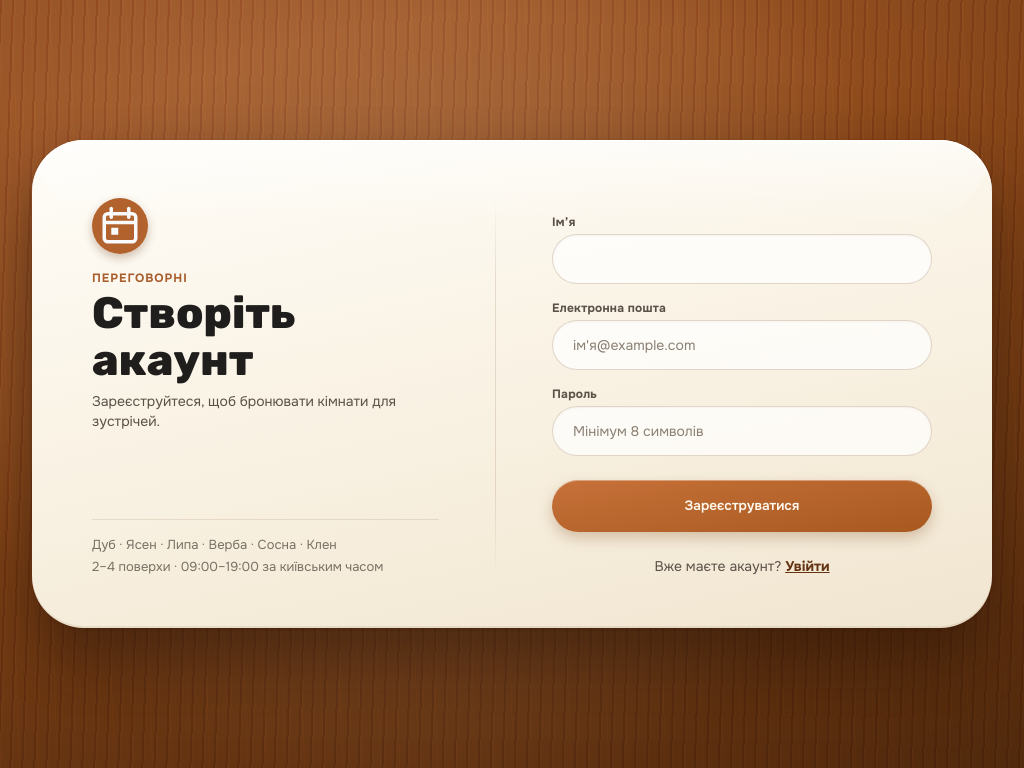
client-side validation › rejects a 7-character password without sending a request
Expected: the heading "Створіть акаунт" is shown, [92,287,296,386]
Type "Іван" into the field labelled "Імʼя" at {"x": 742, "y": 259}, box [552,234,932,284]
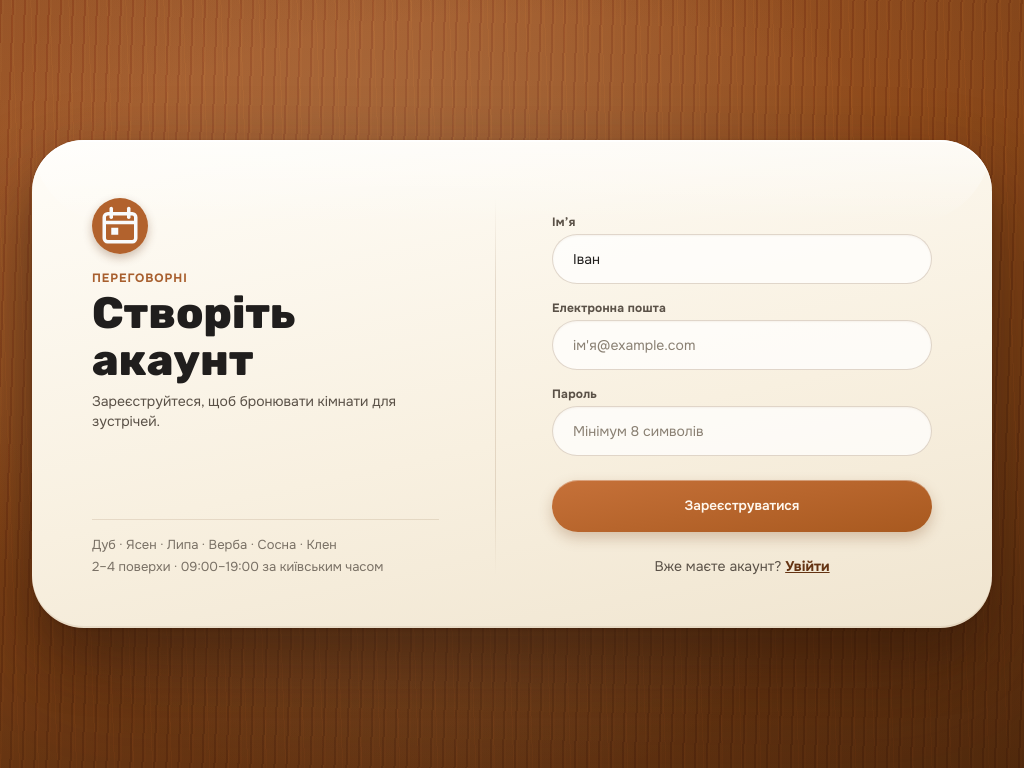
Type "ivan@example.com" into the field labelled "Електронна пошта" at {"x": 742, "y": 345}, box [552,320,932,370]
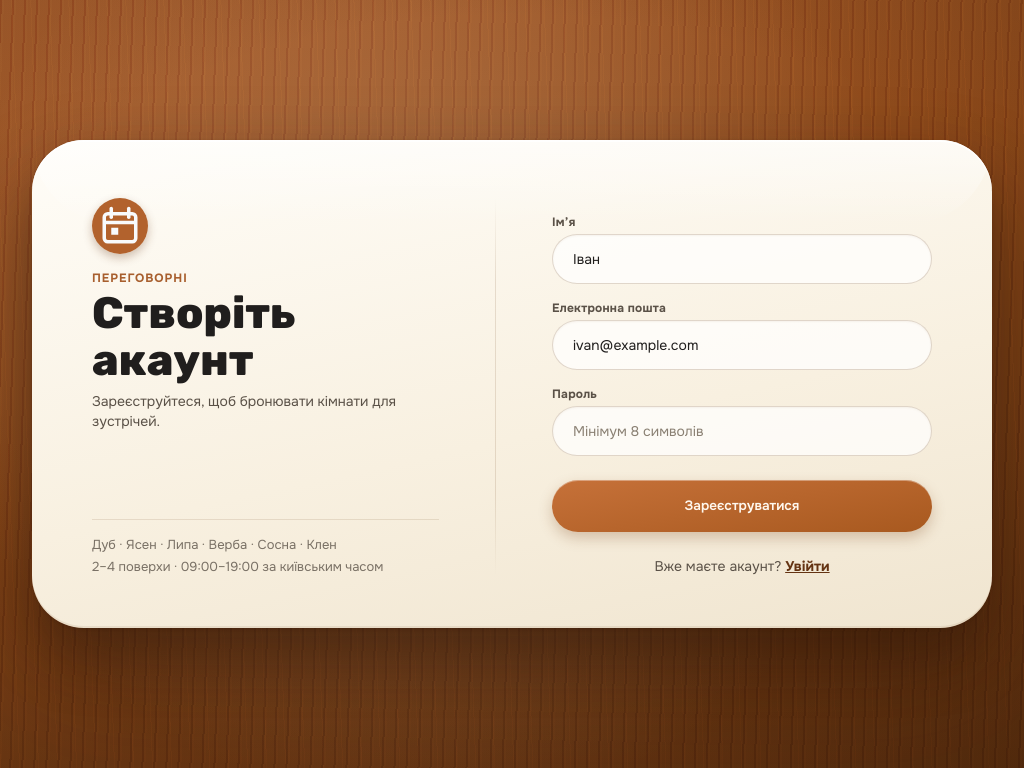
Type "1234567" into the password field labelled "Пароль" at {"x": 742, "y": 431}, box [552,406,932,456]
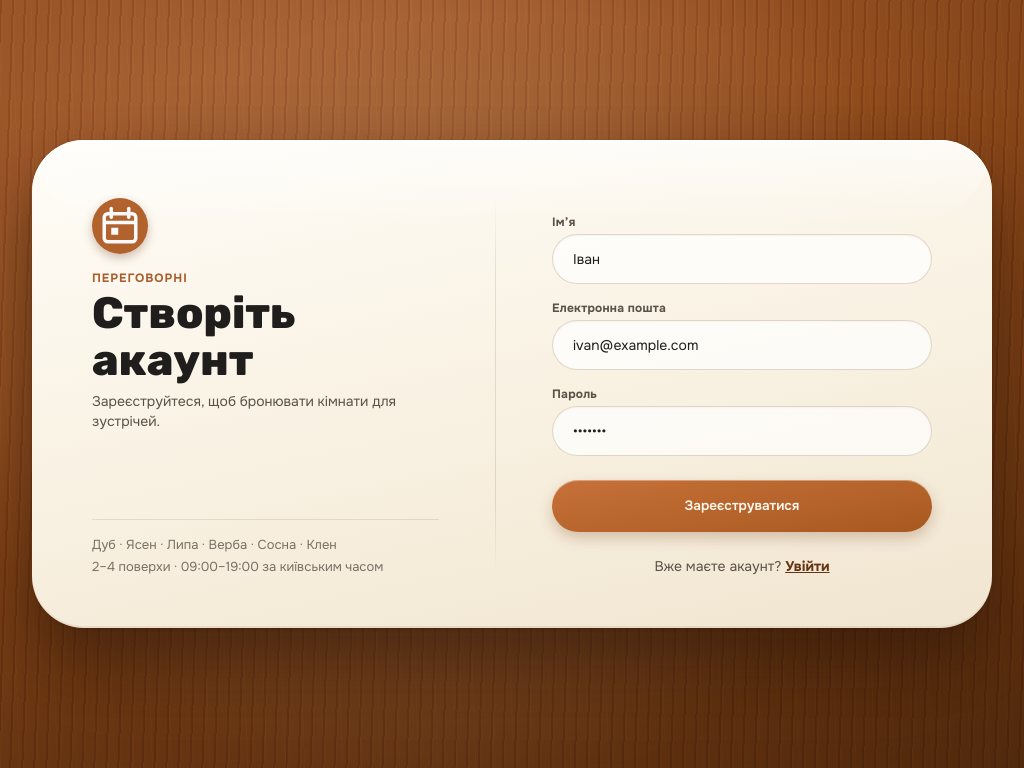
Click the button "Зареєструватися" at {"x": 742, "y": 506}, box [552,480,932,532]
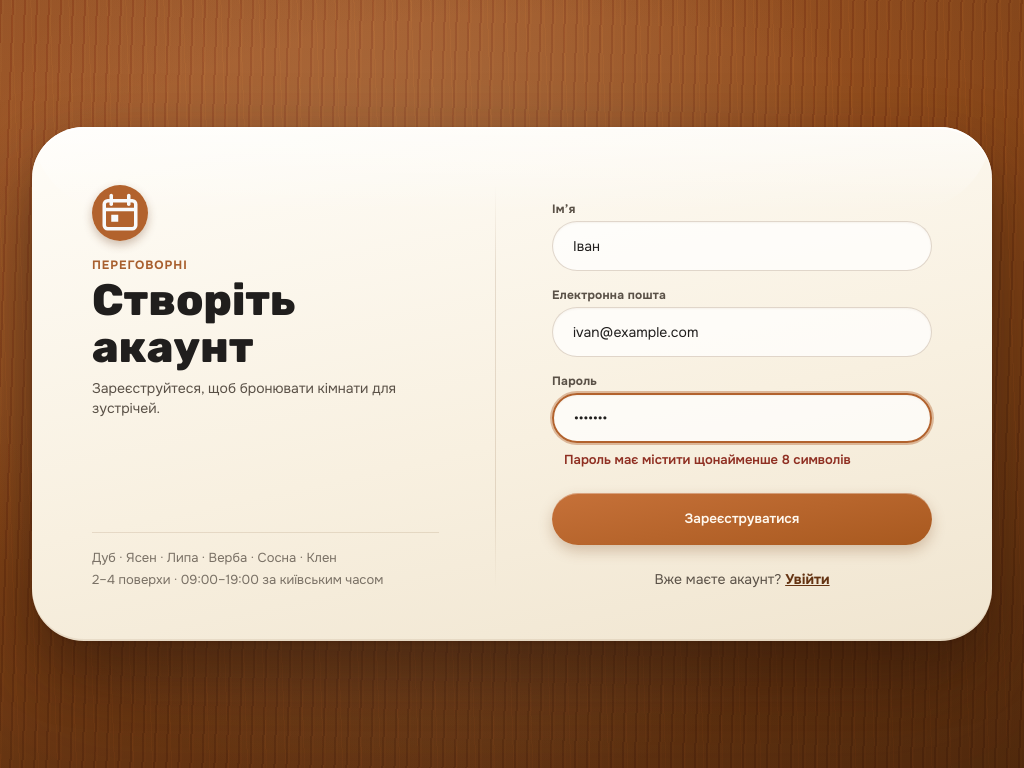
Expected: the message "Пароль має містити щонайменше 8 символів" is shown, [564,451,851,468]
